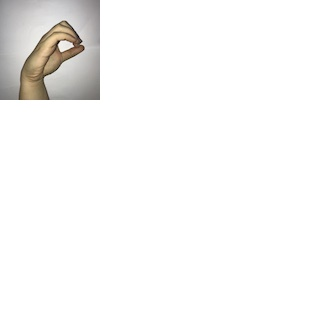rock: (15, 10, 84, 84)
